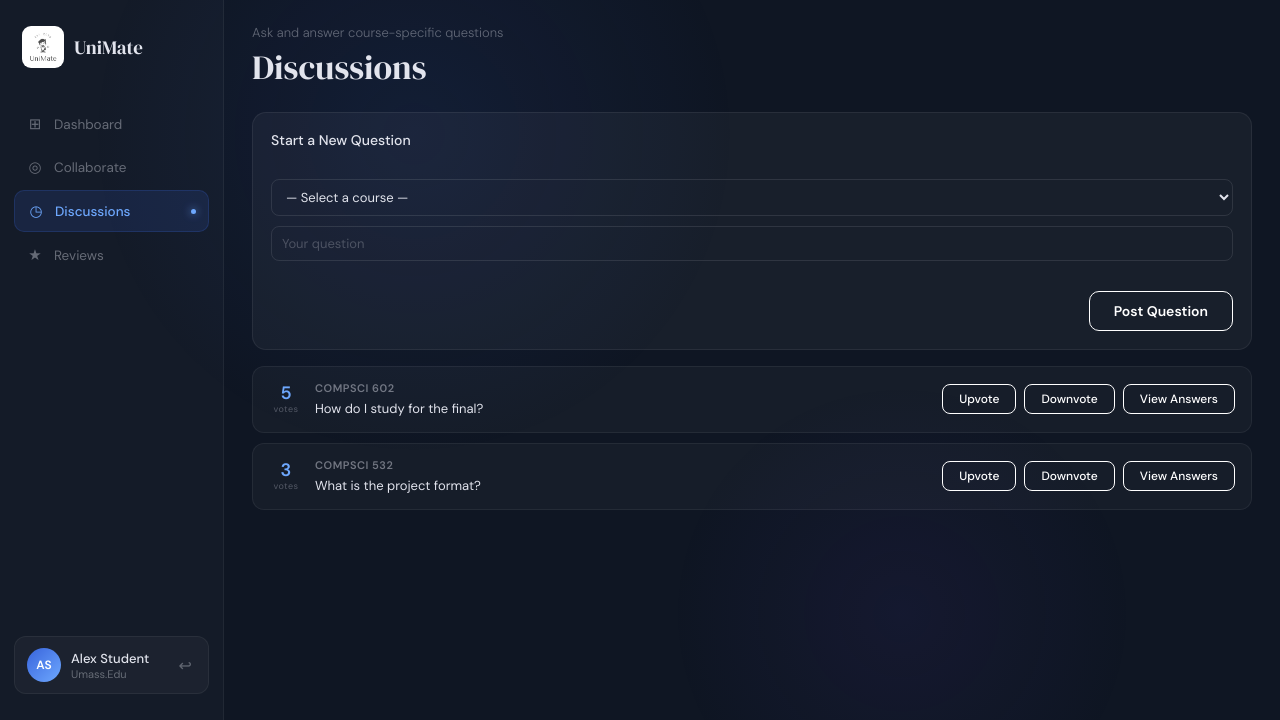
Test: DiscussionsPage › creating a question › shows error when question creation fails
Select "COMPSCI 602 — Research Methods" in the dropdown at (752, 197), box [271,179,1233,216]
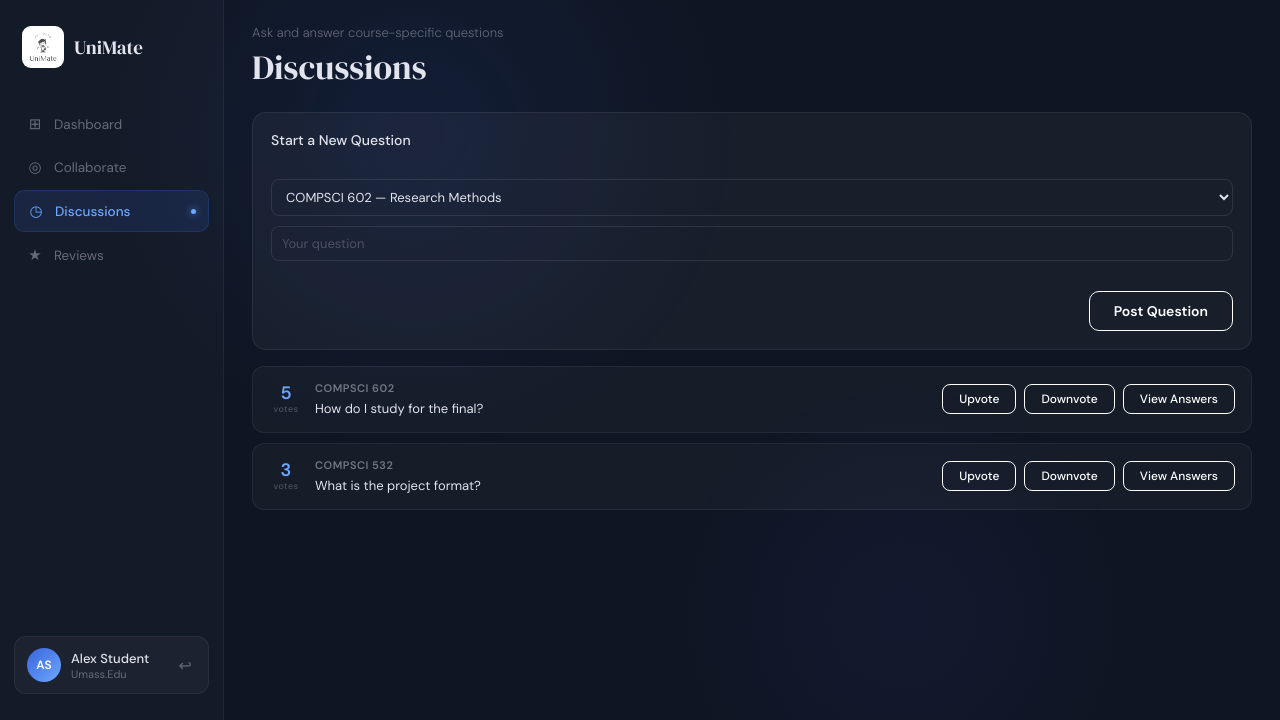
Type "Test?" into the field with placeholder "Your question" at (752, 243), box [271,226,1233,261]
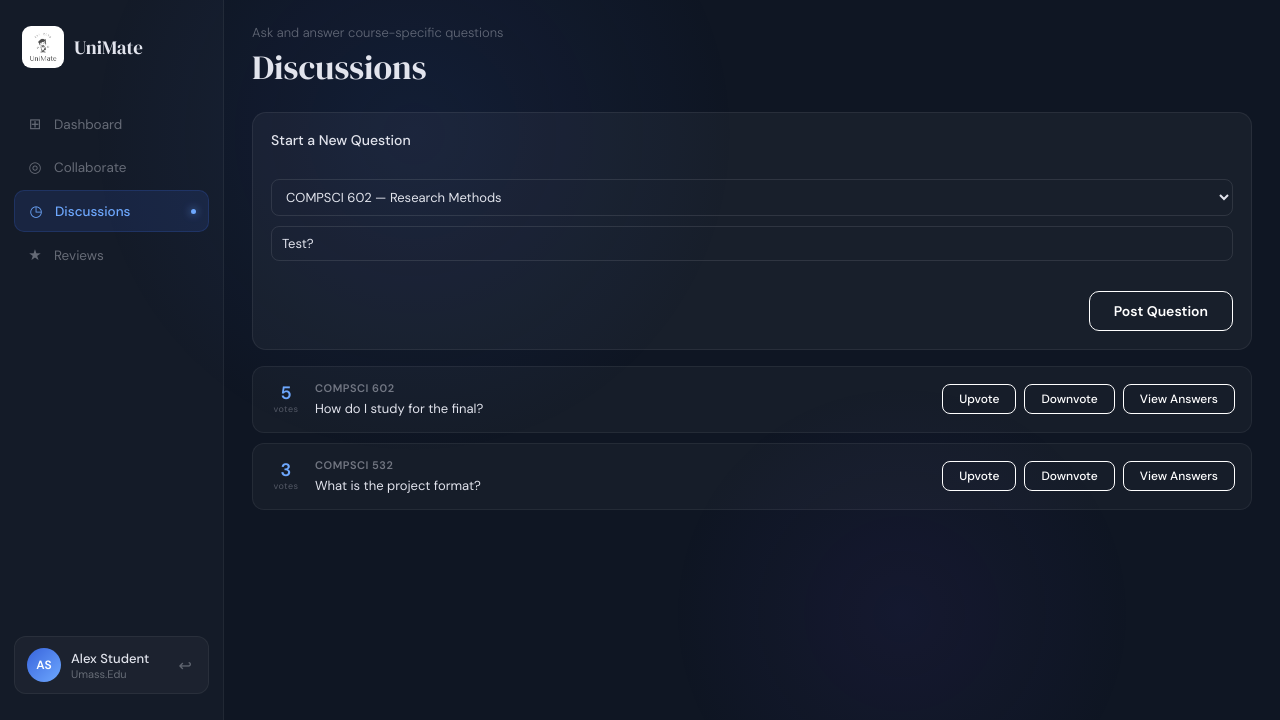
Click the button "Post Question" at (1161, 311), box [1089,291,1233,331]
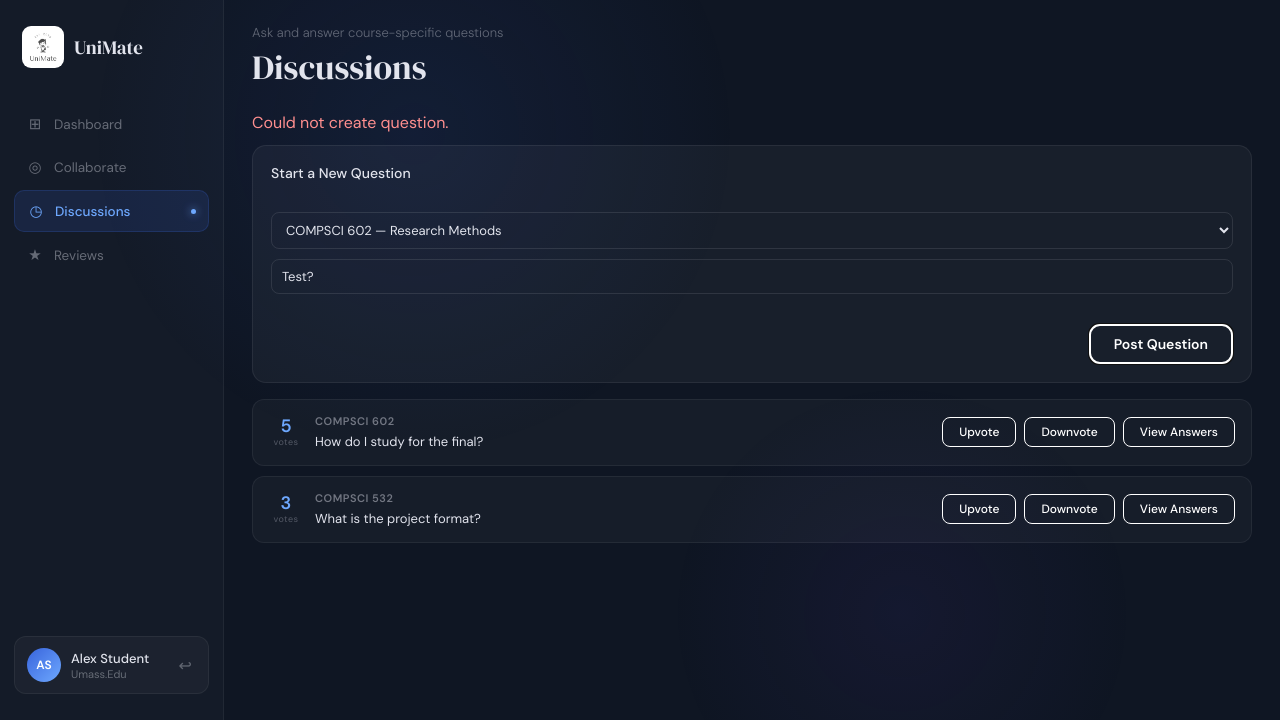
Expected: the text "Could not create question." is shown, [252,112,448,133]
